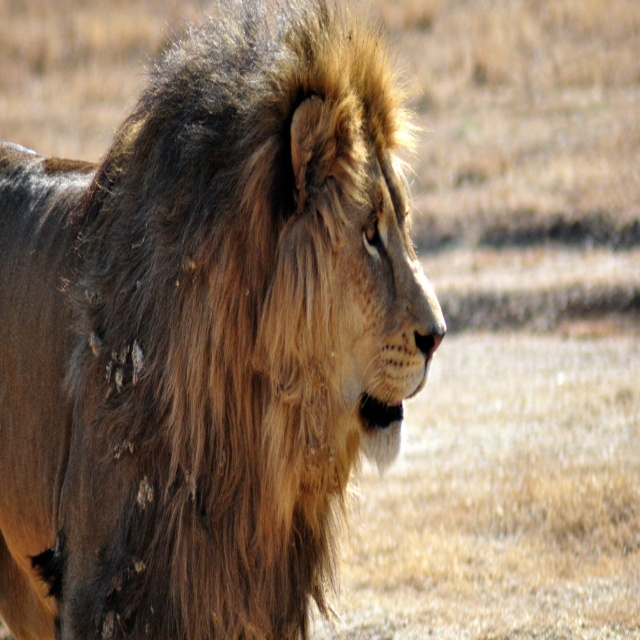Lion: (0, 0, 448, 639)
